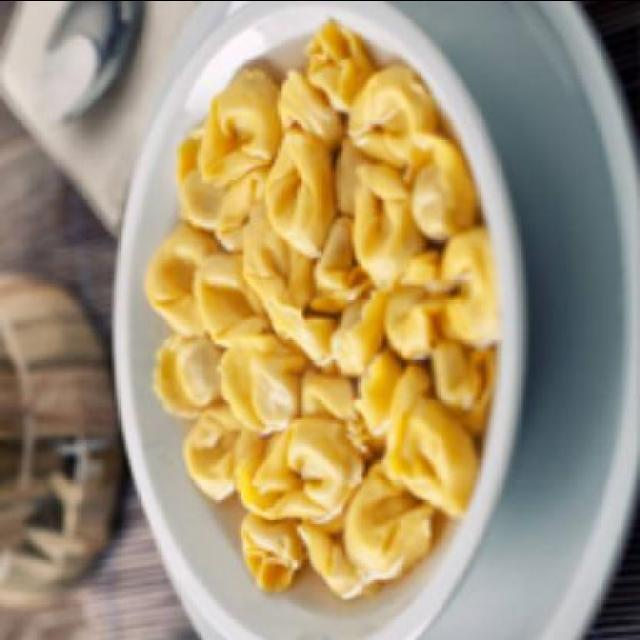Tortellini in broth: (137, 22, 526, 596)
